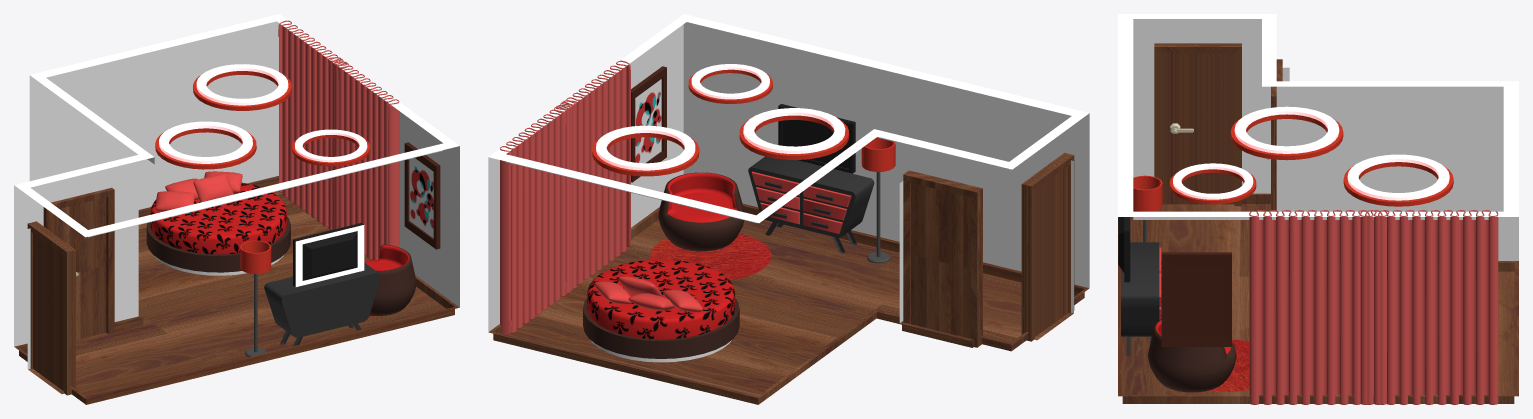
The model's file is red_room (1).glb.
3 renders of one model, left to right at view 1: azimuth 30°, elevation 25°; view 2: azimuth 150°, elevation 25°; view 3: azimuth 270°, elevation 25°, orthographic. The views are drawn at different scales.
Parts seen in each view (by area): view 1: Quarto, Cortina Low Poly, Cortina Low Poly.001, Bed, Table.001, Door, Door.002, TV, Quadro, Door.003, Circle, Circle.002 (+6 smaller); view 2: Quarto, Cortina Low Poly.001, Bed, Cortina Low Poly, Door, Table.001, Chair, Door.002, DoorFrame, Door.003, Circle, Circle.002 (+11 smaller); view 3: Quarto, Cortina Low Poly.001, Cortina Low Poly, Door.002, Quadro, Chair, Table.001, Circle, Circle.002, Door.003, Circle.001, Abajour (+3 smaller).
Part boxes in pixels (box(x1,y1,x2,y2)): Quarto: box(14, 14, 459, 404); Cortina Low Poly: box(328, 57, 399, 259); Cortina Low Poly.001: box(278, 20, 349, 230); Bed: box(146, 182, 290, 275); Table.001: box(264, 262, 380, 346); Door: box(52, 197, 106, 339); Door.002: box(33, 233, 63, 390); TV: box(293, 223, 364, 286); Quadro: box(404, 142, 440, 249); Door.003: box(27, 221, 75, 395); Circle: box(155, 121, 256, 169); Circle.002: box(193, 64, 291, 110); Quarto: box(488, 14, 1089, 404); Cortina Low Poly.001: box(500, 100, 576, 334); Bed: box(583, 259, 739, 362); Cortina Low Poly: box(554, 60, 630, 293); Door: box(911, 183, 970, 338); Table.001: box(748, 156, 874, 253); Chair: box(658, 172, 744, 251); Door.002: box(1035, 166, 1068, 336); DoorFrame: box(903, 170, 982, 347); Door.003: box(1021, 153, 1074, 341); Circle: box(739, 108, 848, 159); Circle.002: box(592, 125, 699, 176); Quarto: box(1118, 14, 1518, 403); Cortina Low Poly.001: box(1360, 210, 1498, 404); Cortina Low Poly: box(1249, 210, 1387, 404); Door.002: box(1162, 53, 1234, 204); Quadro: box(1161, 252, 1231, 346); Chair: box(1147, 319, 1236, 392); Table.001: box(1121, 242, 1161, 355); Circle: box(1230, 106, 1343, 160); Circle.002: box(1343, 154, 1453, 206); Door.003: box(1154, 43, 1241, 206); Circle.001: box(1169, 163, 1256, 204); Abajour: box(1133, 175, 1162, 242).
Bounding box in the file's own units: 6.5 × 2.79 × 5.35.
19 materials, 5 textured.
